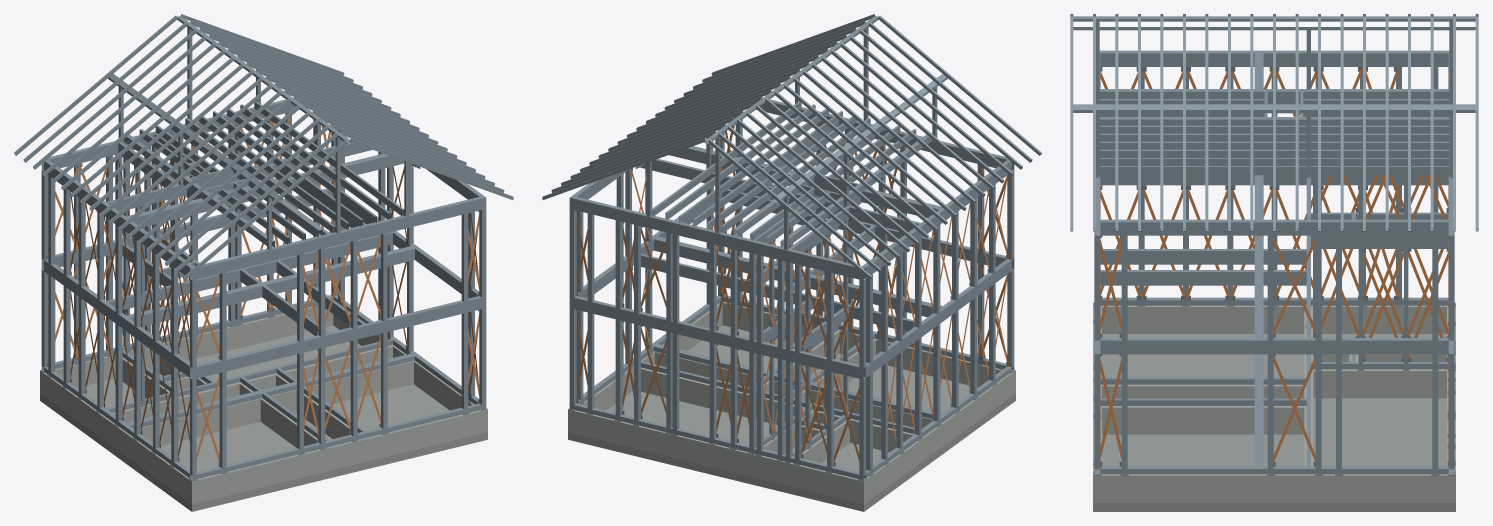
File: structure_S.glb
The picture shows the model from 3 angles, left to right: view 1: azimuth 30°, elevation 25°; view 2: azimuth 150°, elevation 25°; view 3: azimuth 270°, elevation 25°; orthographic projection. The views are drawn at different scales.
Visible parts, largest first — view 1: foundation:stem_walls:perimeter, foundation:raft:slab, structure:F1:beam_B01, structure:F2:beam_B01, foundation:internal_supports:I01, structure:F1:beam_B05, structure:F1:beam_B06, foundation:internal_supports:I02, structure:F1:beam_B04, structure:F1:sill_B01, structure:F2:beam_B05, structure:F1:sill_B05 (+97 smaller); view 2: foundation:stem_walls:perimeter, foundation:raft:slab, structure:F2:beam_B02, structure:F1:beam_B02, foundation:internal_supports:I02, structure:F1:beam_B05, structure:F1:beam_B04, structure:F1:sill_B02, structure:F1:beam_B06, foundation:internal_supports:I01, structure:F2:beam_B06, structure:F2:beam_B04 (+108 smaller); view 3: foundation:raft:slab, foundation:stem_walls:perimeter, structure:F1:beam_B03, structure:F2:beam_B03, structure:F2:beam_B04, foundation:internal_supports:I06, foundation:internal_supports:I03, structure:roof:purlin_east, structure:attic:trimmer_west, structure:attic:joist_J01, structure:F1:sill_B03, structure:F1:beam_B11 (+62 smaller).
Boxes of the visible parts, x1=… form: foundation:stem_walls:perimeter: x1=40, y1=306, x2=487, y2=504; foundation:raft:slab: x1=40, y1=325, x2=487, y2=511; structure:F1:beam_B01: x1=190, y1=296, x2=486, y2=379; structure:F2:beam_B01: x1=190, y1=195, x2=486, y2=280; foundation:internal_supports:I01: x1=141, y1=361, x2=413, y2=445; structure:F1:beam_B05: x1=126, y1=246, x2=414, y2=326; structure:F1:beam_B06: x1=106, y1=232, x2=392, y2=309; foundation:internal_supports:I02: x1=113, y1=345, x2=392, y2=422; structure:F1:beam_B04: x1=44, y1=259, x2=189, y2=377; structure:F1:sill_B01: x1=190, y1=403, x2=486, y2=480; structure:F2:beam_B05: x1=126, y1=153, x2=404, y2=227; structure:F1:sill_B05: x1=126, y1=353, x2=414, y2=428; foundation:stem_walls:perimeter: x1=568, y1=301, x2=1015, y2=504; foundation:raft:slab: x1=568, y1=325, x2=1015, y2=511; structure:F2:beam_B02: x1=569, y1=195, x2=865, y2=280; structure:F1:beam_B02: x1=569, y1=296, x2=865, y2=379; foundation:internal_supports:I02: x1=641, y1=367, x2=913, y2=452; structure:F1:beam_B05: x1=654, y1=236, x2=942, y2=317; structure:F1:beam_B04: x1=866, y1=259, x2=1011, y2=377; structure:F1:sill_B02: x1=569, y1=403, x2=865, y2=480; structure:F1:beam_B06: x1=641, y1=253, x2=914, y2=331; foundation:internal_supports:I01: x1=655, y1=351, x2=932, y2=428; structure:F2:beam_B06: x1=640, y1=159, x2=920, y2=232; structure:F2:beam_B04: x1=862, y1=160, x2=1011, y2=278; foundation:raft:slab: x1=1093, y1=334, x2=1455, y2=511; foundation:stem_walls:perimeter: x1=1093, y1=303, x2=1455, y2=502; structure:F1:beam_B03: x1=1100, y1=338, x2=1448, y2=354; structure:F2:beam_B03: x1=1100, y1=219, x2=1448, y2=235; structure:F2:beam_B04: x1=1100, y1=50, x2=1448, y2=66; foundation:internal_supports:I06: x1=1102, y1=406, x2=1304, y2=434; foundation:internal_supports:I03: x1=1313, y1=369, x2=1446, y2=398; structure:roof:purlin_east: x1=1073, y1=104, x2=1475, y2=112; structure:attic:trimmer_west: x1=1099, y1=89, x2=1449, y2=99; structure:attic:joist_J01: x1=1099, y1=166, x2=1449, y2=175; structure:F1:sill_B03: x1=1100, y1=466, x2=1448, y2=474; structure:F1:beam_B11: x1=1100, y1=249, x2=1306, y2=264.
Bounding box in the file's own units: 9.09 × 9.07 × 8.18.
